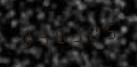five: (34, 22, 50, 48), (103, 17, 119, 42)
three: (69, 20, 85, 45)
zero: (86, 18, 102, 44), (17, 24, 33, 49), (52, 21, 68, 46)
